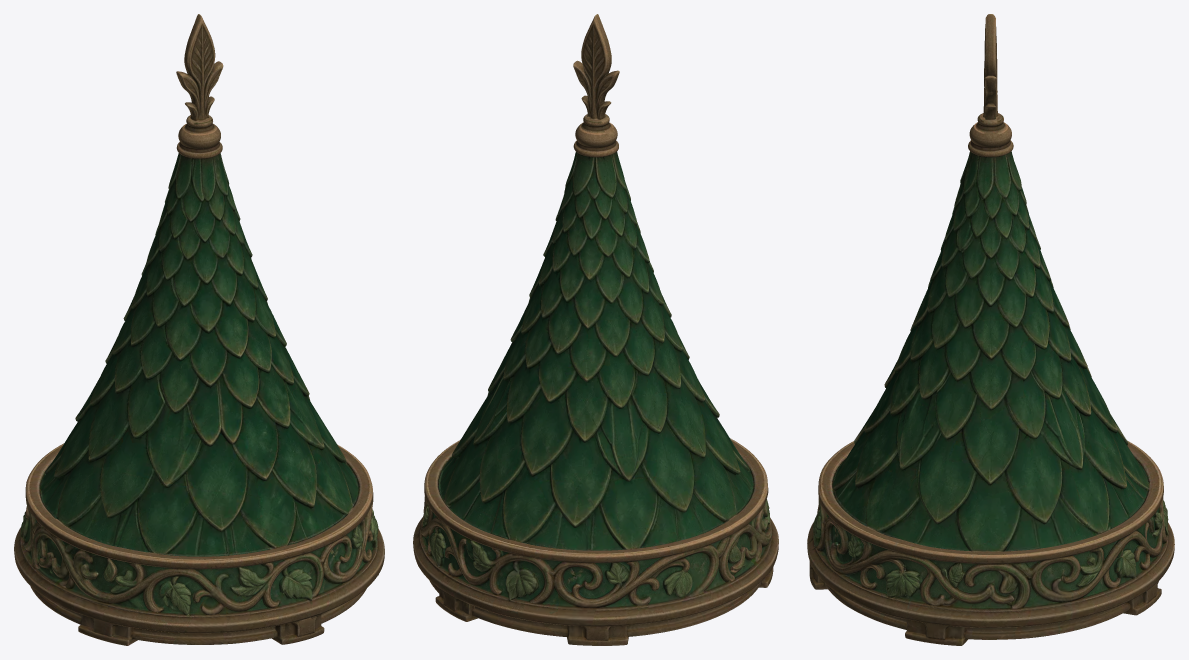
The model's file is Meshy_AI_model.glb.
3 views of the same model, side by side, from view 1: azimuth 30°, elevation 25°; view 2: azimuth 150°, elevation 25°; view 3: azimuth 270°, elevation 25° (orthographic).
Parts seen in each view (by area): view 1: mesh_node; view 2: mesh_node; view 3: mesh_node.
Part boxes in pixels (box(x1,y1,x2,y2)): mesh_node: box(14, 14, 384, 645); mesh_node: box(413, 14, 778, 645); mesh_node: box(807, 14, 1174, 645).
Size of the model in its own units: 1.14 by 1.9 by 1.13.
1 material, 1 textured.
